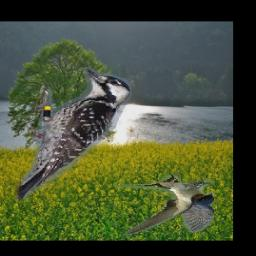Swallow: (115, 174, 214, 236)
Woodpecker: (15, 68, 131, 200)
